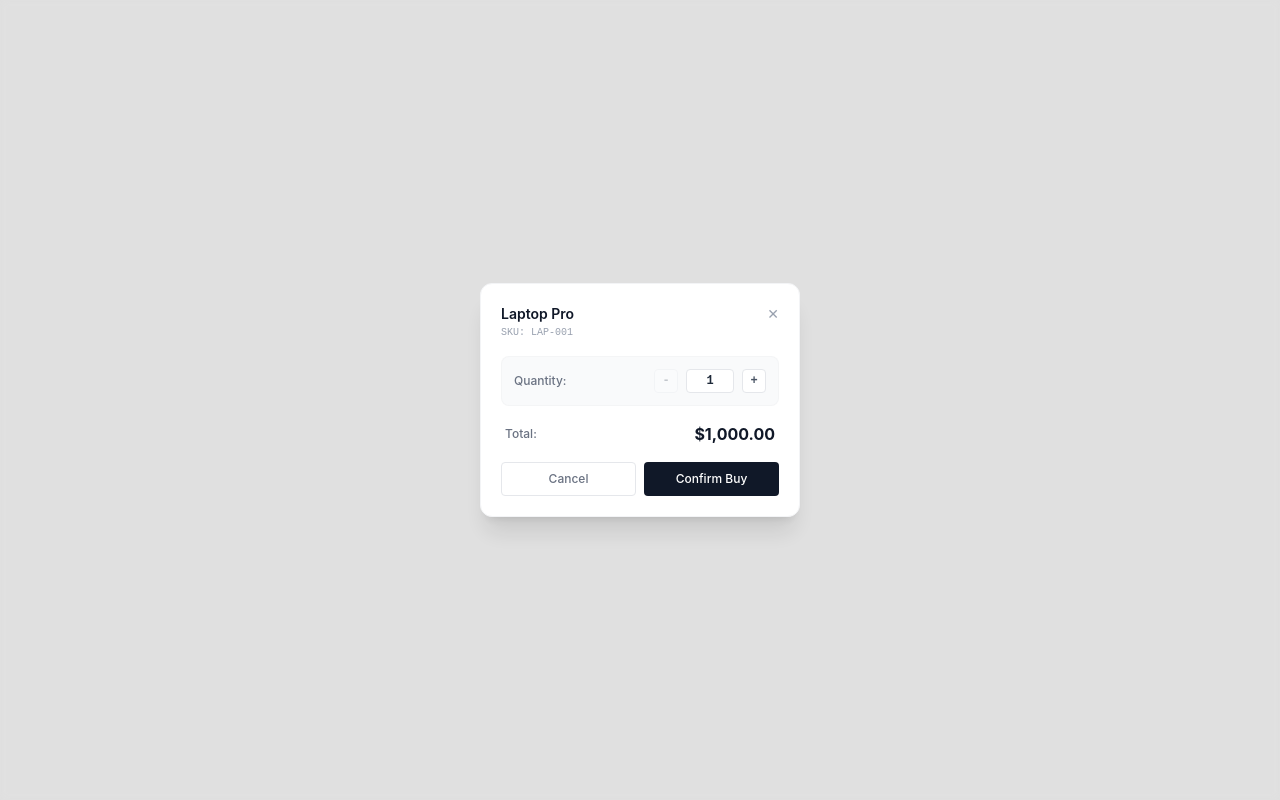
Scenario: BuyModal Component › should fix invalid numbers typed by the user on blur
Note: Simulate incorrect input
Clear the number field at (710, 381), box [686,369,734,393]
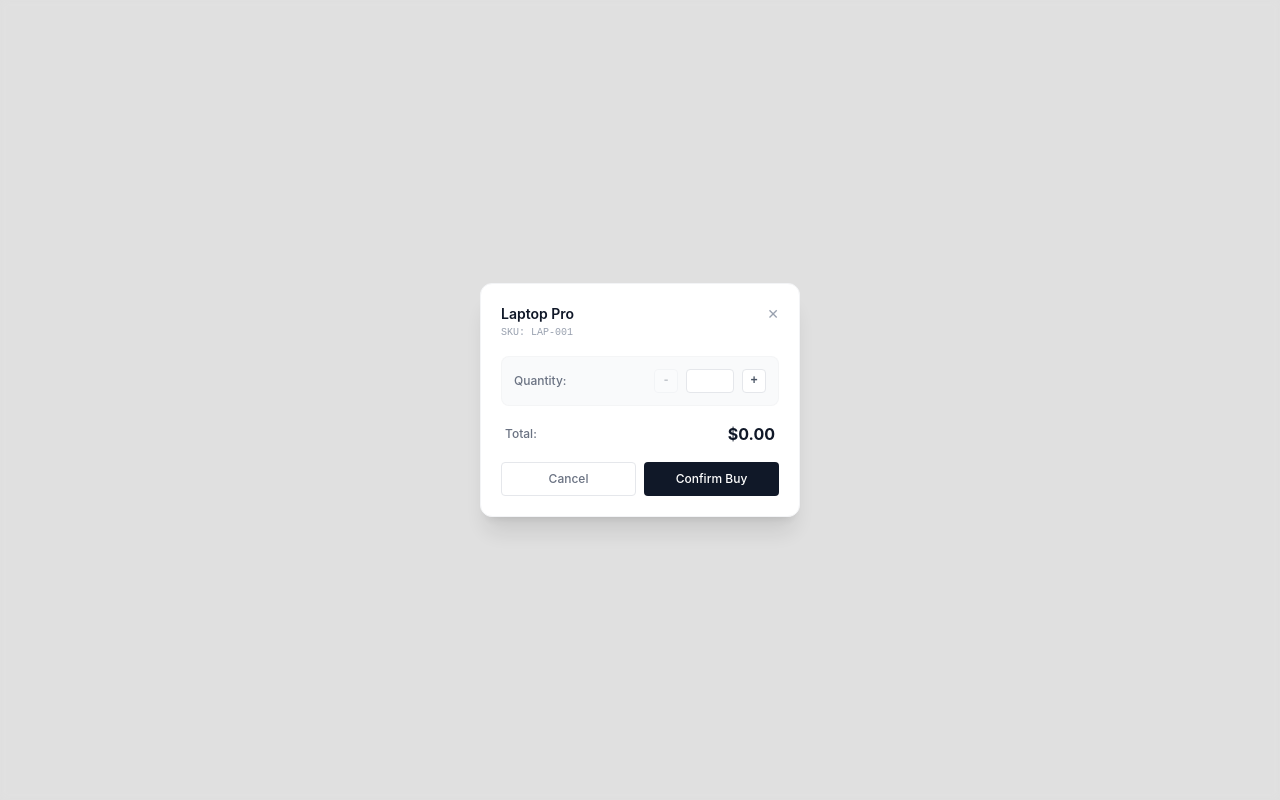
Note: Should be reset to 1
Leave the number field, box [686,369,734,393]
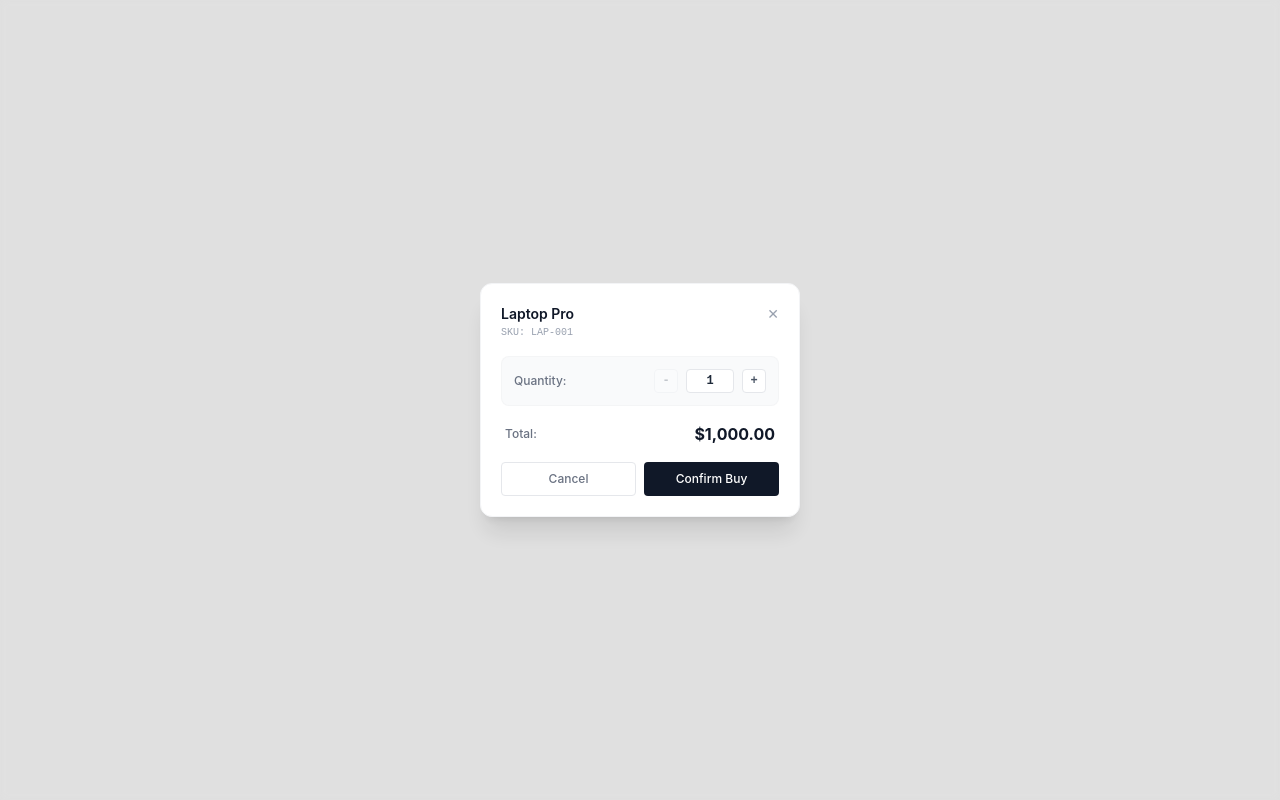
Now the number field holds "1", box [686,369,734,393]
